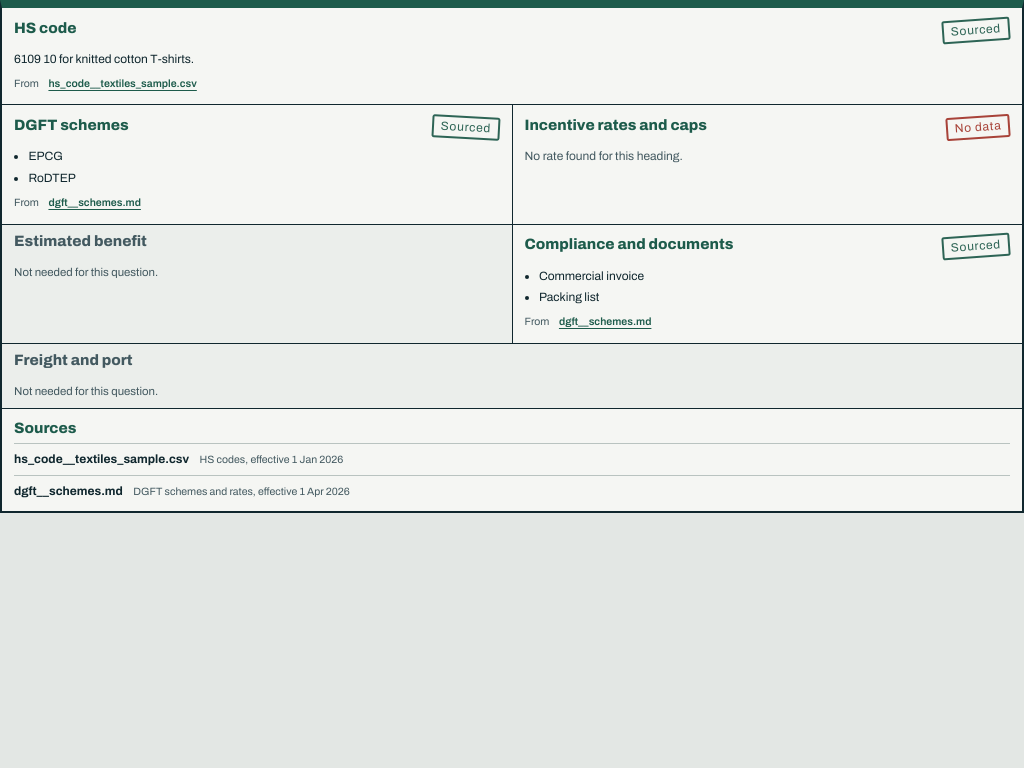
Scenario: Docket › opens the cited source's excerpt when its name is clicked, and closes it again
expect the text "6109 10 cotton T-shirts" is not shown: met
Click the button "hs_code__textiles_sample.csv".
click(123, 84)  # box [46, 76, 199, 92]
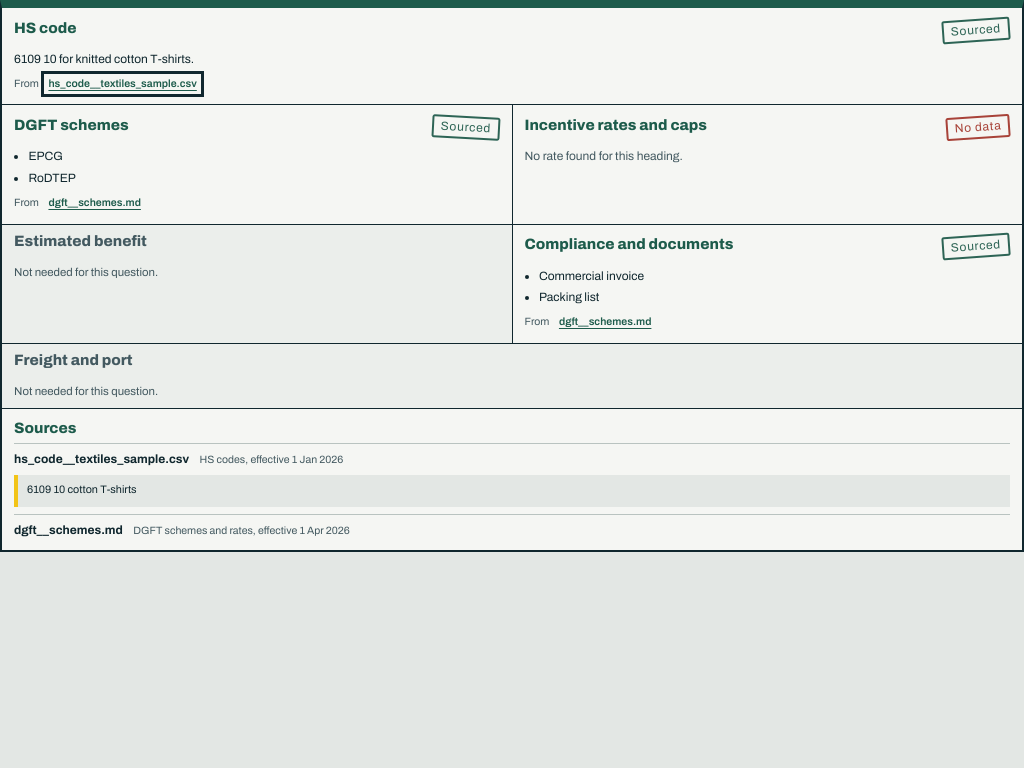
expect the text "6109 10 cotton T-shirts" is shown: met, box [14, 475, 1010, 506]
Click the button "hs_code__textiles_sample.csv HS codes, effective 1 Jan 2026".
click(102, 459)  # box [14, 443, 1010, 475]
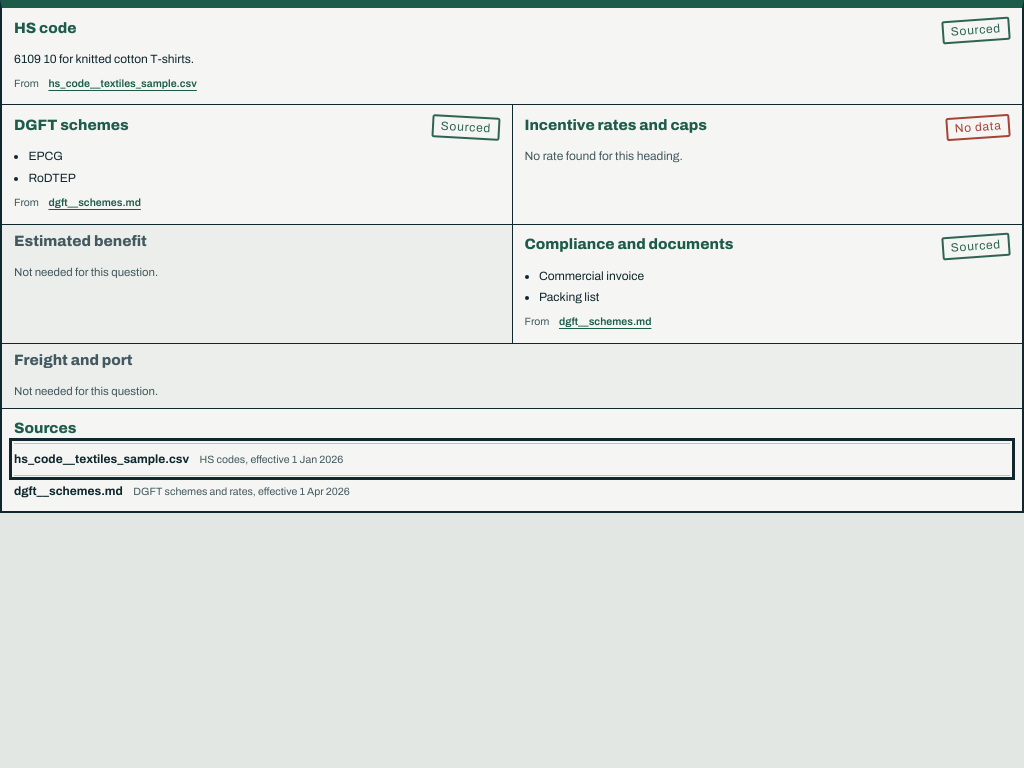
expect the text "6109 10 cotton T-shirts" is gone: met
